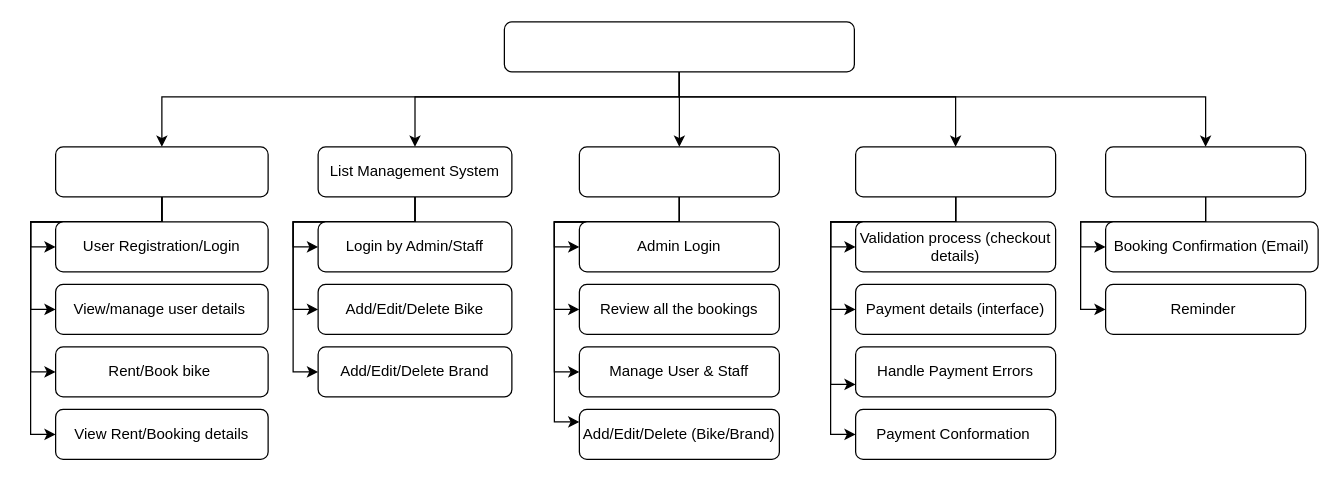
The diagram is 1340 pixels wide and 481 high, and some of its shapes have lost their labels. The shapes that lost their labels are listed below. From the top down, each one's centre as x and y in pixels, then its label:
At pixel 678 46: "Bike Rental Management System".
At pixel 161 171: "User Management System".
At pixel 678 171: "Admin Management".
At pixel 955 171: "Payment System".
At pixel 1205 171: "Notification System".
